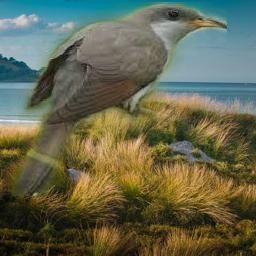Cuckoo: (13, 2, 228, 196)
